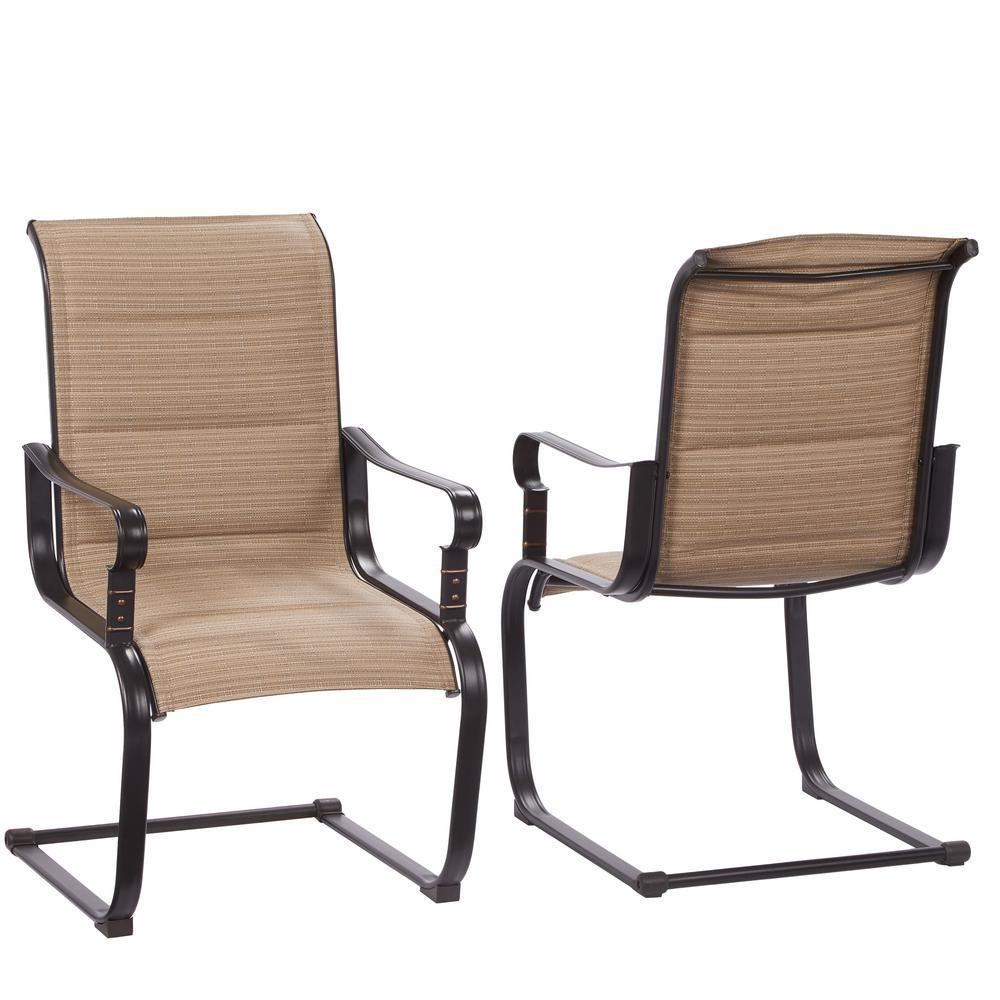chair: (482, 211, 1000, 960), (2, 208, 521, 951)
